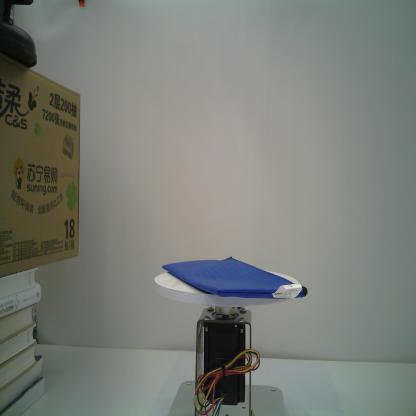Stationery: (161, 254, 309, 303)
